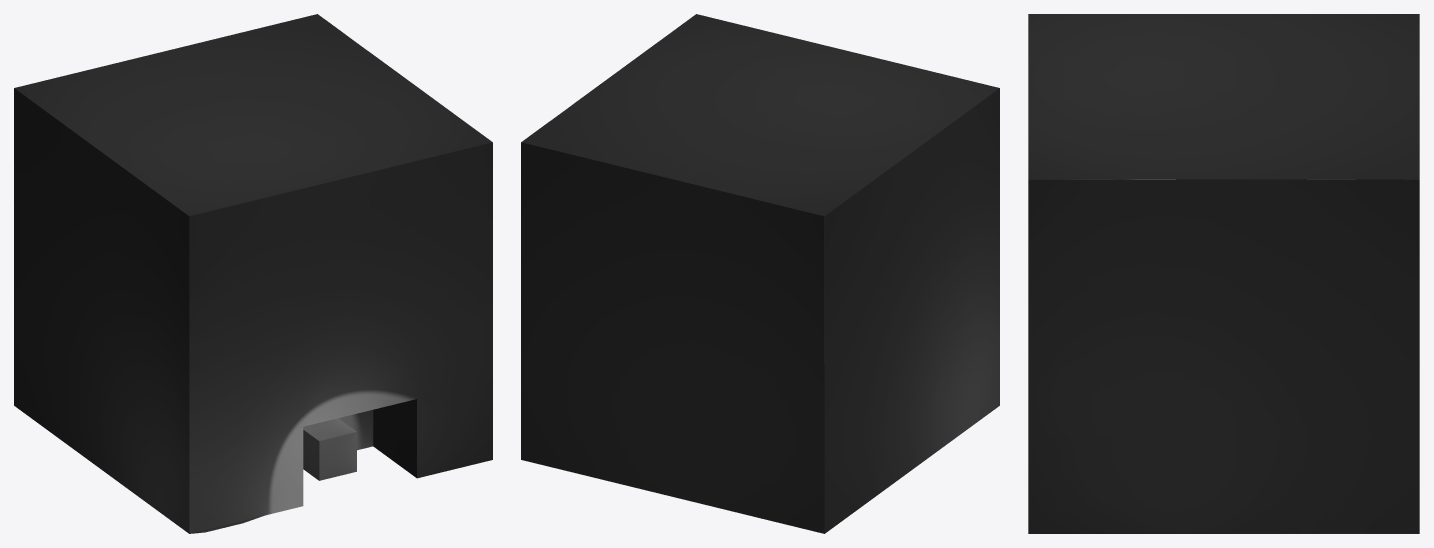
The model's file is room.obj.
3 renders of one model, left to right at view 1: azimuth 30°, elevation 25°; view 2: azimuth 150°, elevation 25°; view 3: azimuth 270°, elevation 25°, orthographic. The views are drawn at different scales.
Parts seen in each view (by area): view 1: Cube_Cube.001; view 2: Cube_Cube.001; view 3: Cube_Cube.001.
Part boxes in pixels (left/top/right/bottom): Cube_Cube.001: left=14, top=14, right=492, bottom=533; Cube_Cube.001: left=521, top=14, right=999, bottom=533; Cube_Cube.001: left=1028, top=14, right=1419, bottom=533.
Size of the model in its own units: 8 by 8.6 by 8.
1 material, 1 textured.
